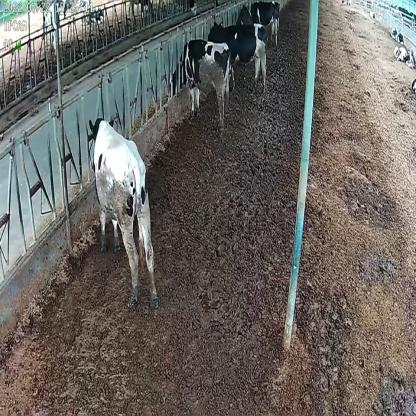cow: (87, 114, 160, 311), (167, 37, 231, 138), (207, 23, 268, 100)
